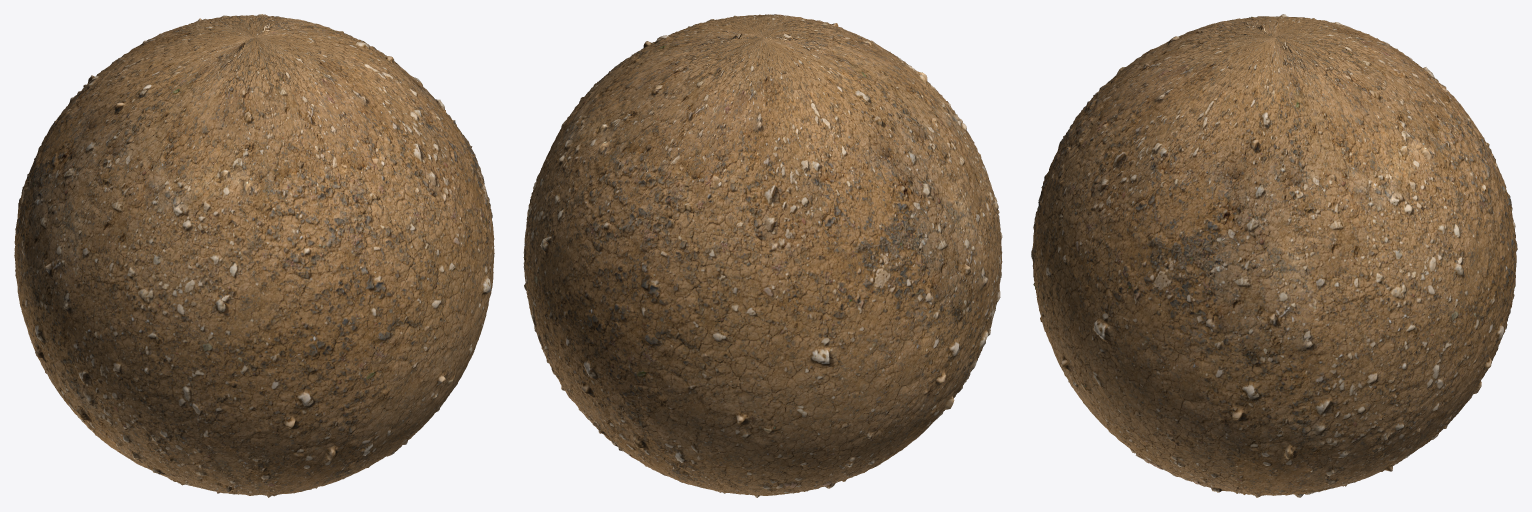
File: dry_ground_rocks_1k.gltf
The picture shows the model from 3 angles, left to right: view 1: azimuth 30°, elevation 25°; view 2: azimuth 150°, elevation 25°; view 3: azimuth 270°, elevation 25°; orthographic projection.
Visible parts, largest first — view 1: sphere_gltf; view 2: sphere_gltf; view 3: sphere_gltf.
Boxes of the visible parts, x1,y1,x2,y2 form: sphere_gltf: (14, 14, 494, 497); sphere_gltf: (523, 14, 1002, 497); sphere_gltf: (1031, 14, 1517, 497).
Size of the model in its own units: 4 by 4.04 by 4.04.
Materials: 1 (1 with a texture image).
